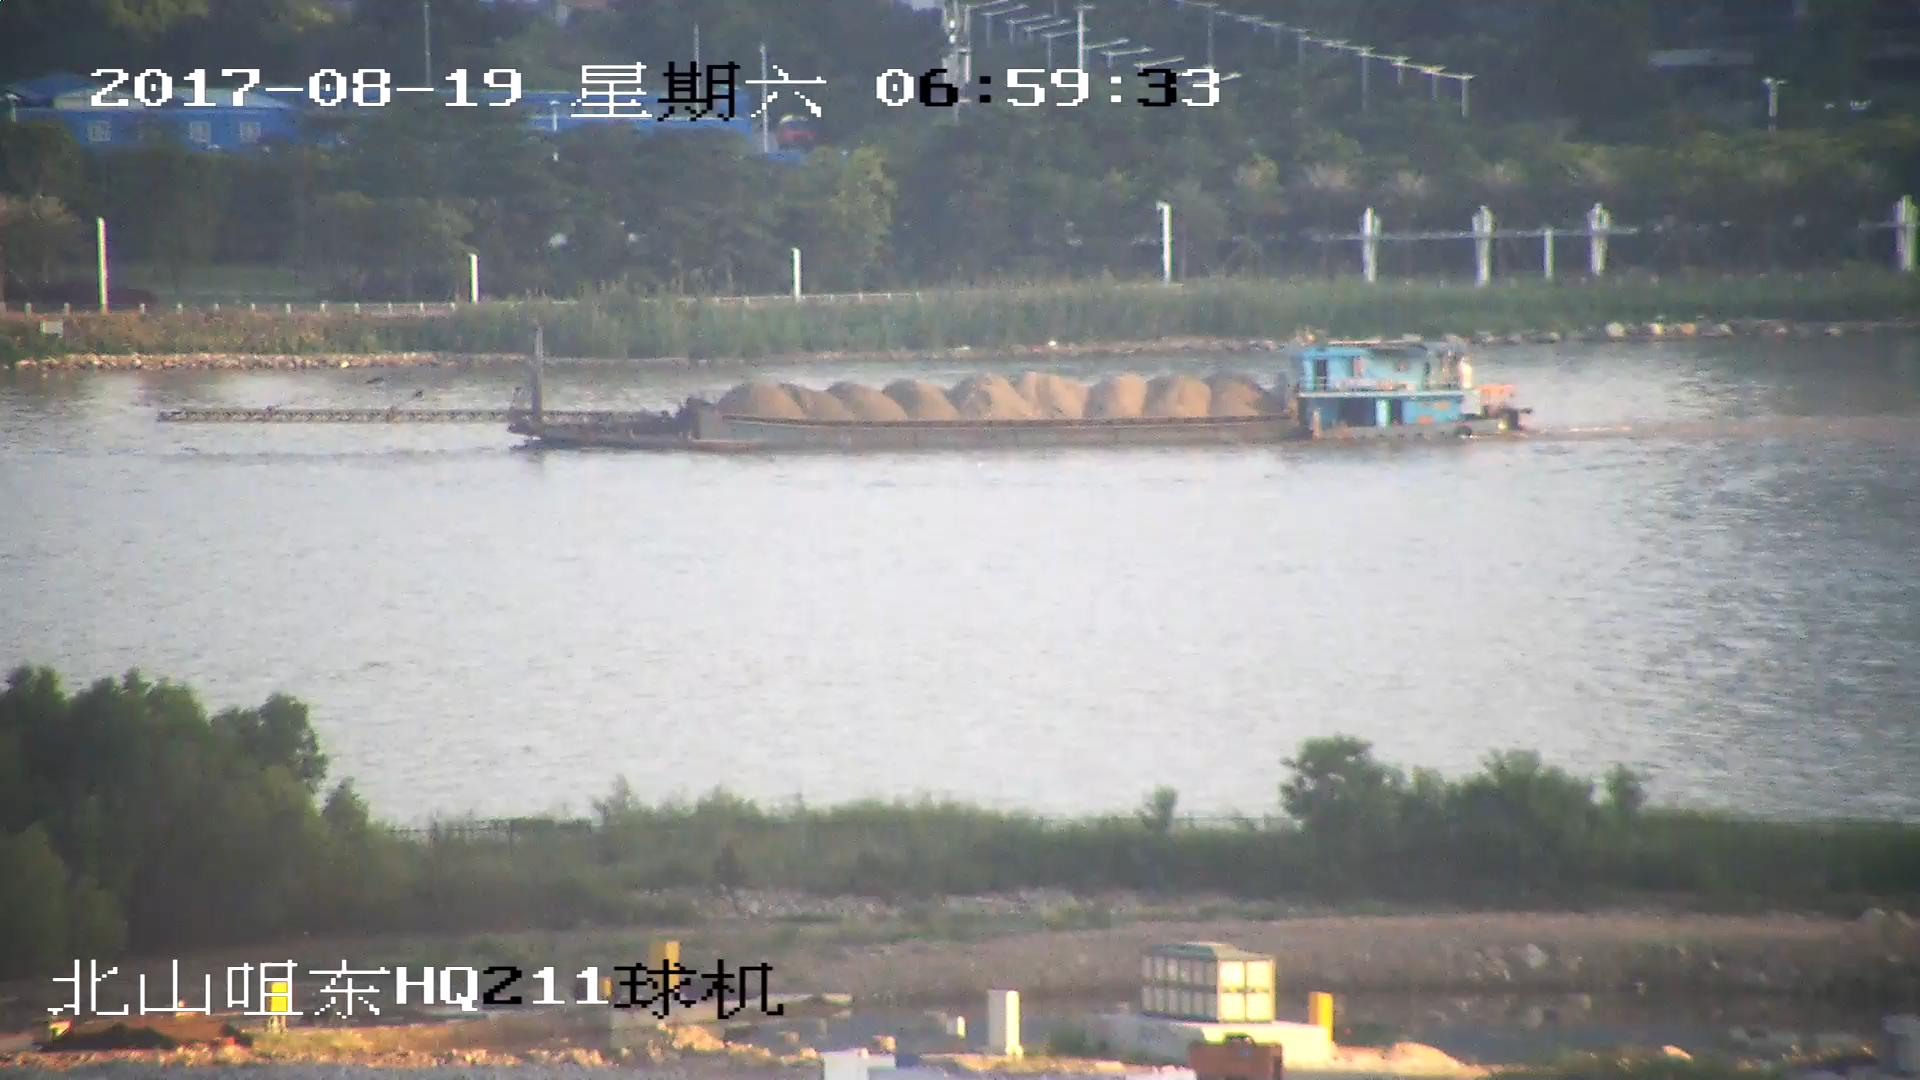ore carrier: (152, 324, 1534, 449)
